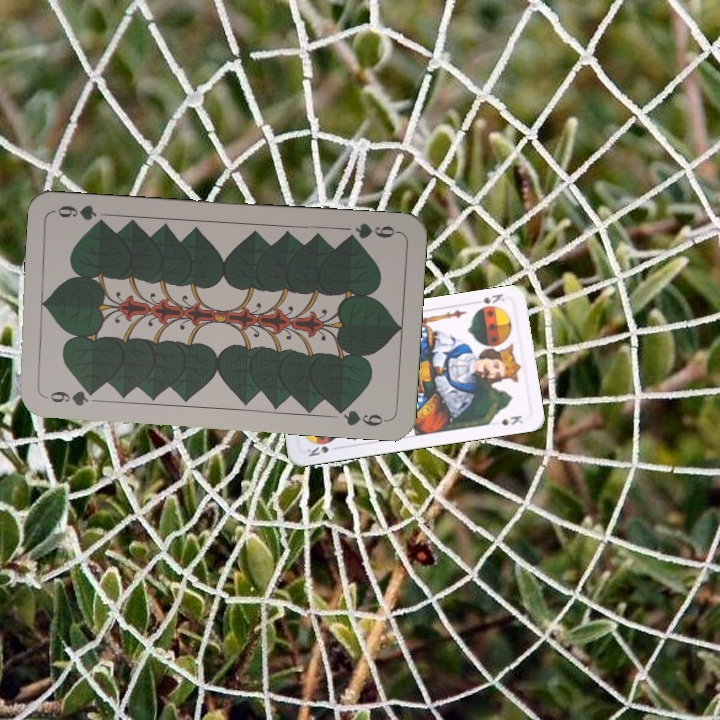G9: (341, 219, 401, 244), (41, 386, 100, 409)
SK: (303, 442, 342, 459), (479, 290, 507, 307)
